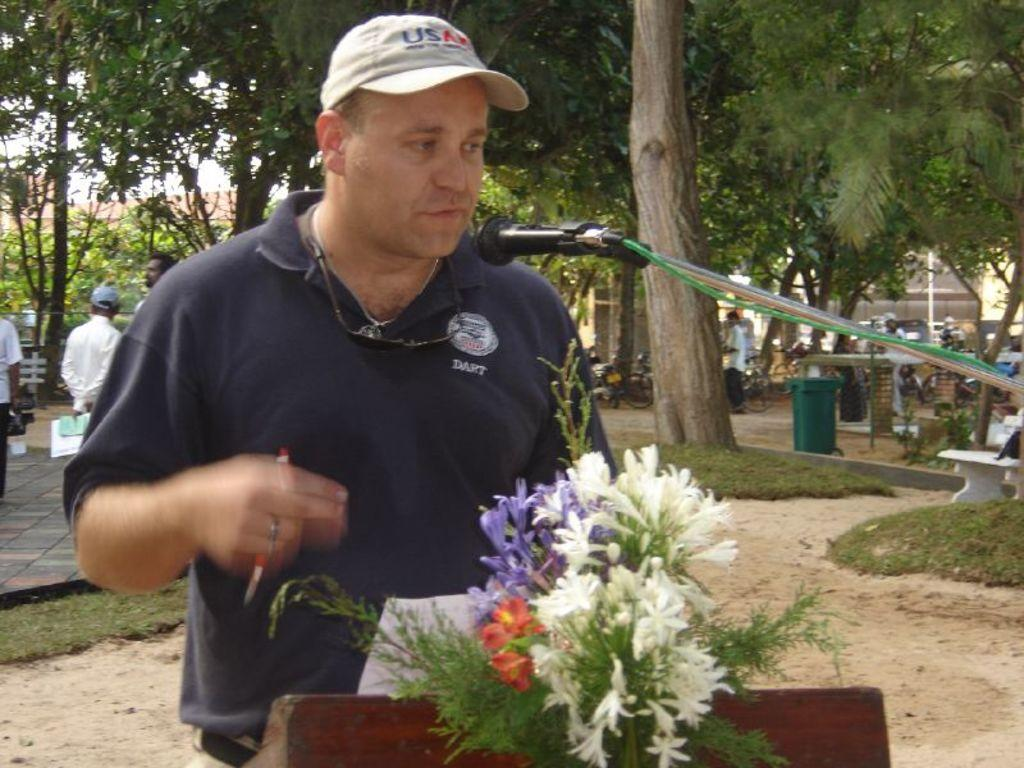Hat: (314, 15, 526, 116), (89, 284, 124, 314)
